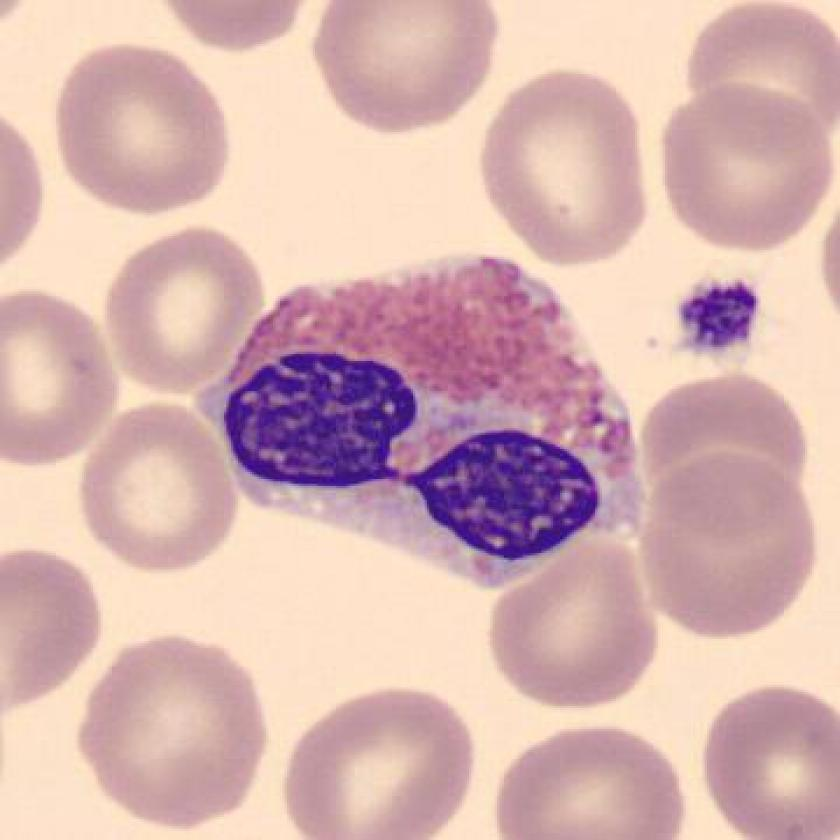eosinophil: (197, 240, 652, 608)
